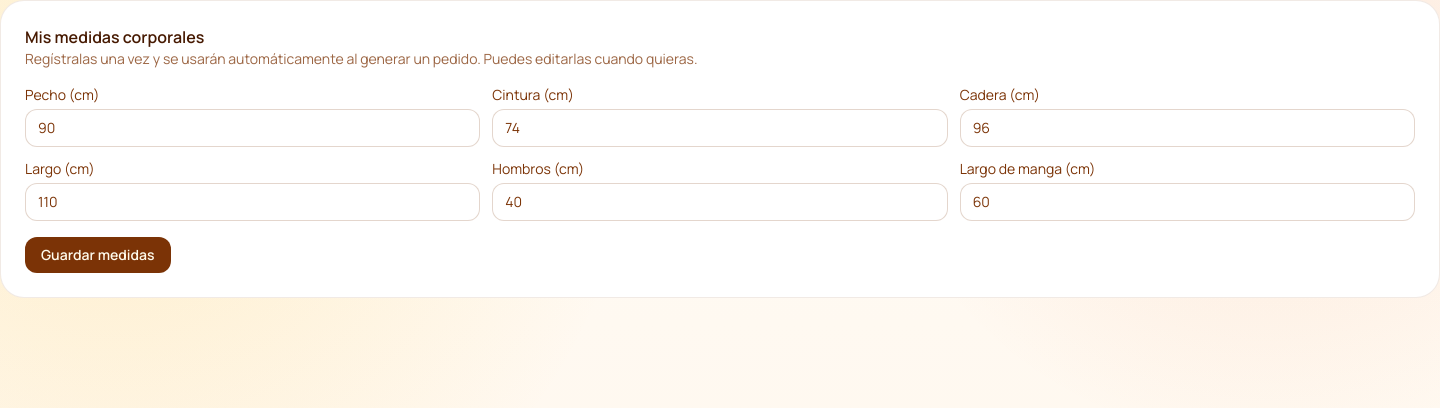
Scenario: HU-08: registro de medidas corporales › guarda cuando todas las medidas son válidas
This screenshot has width=1440, height=408.
Click the button "Guardar medidas".
click(98, 255)  # box x1=25 y1=237 x2=170 y2=273
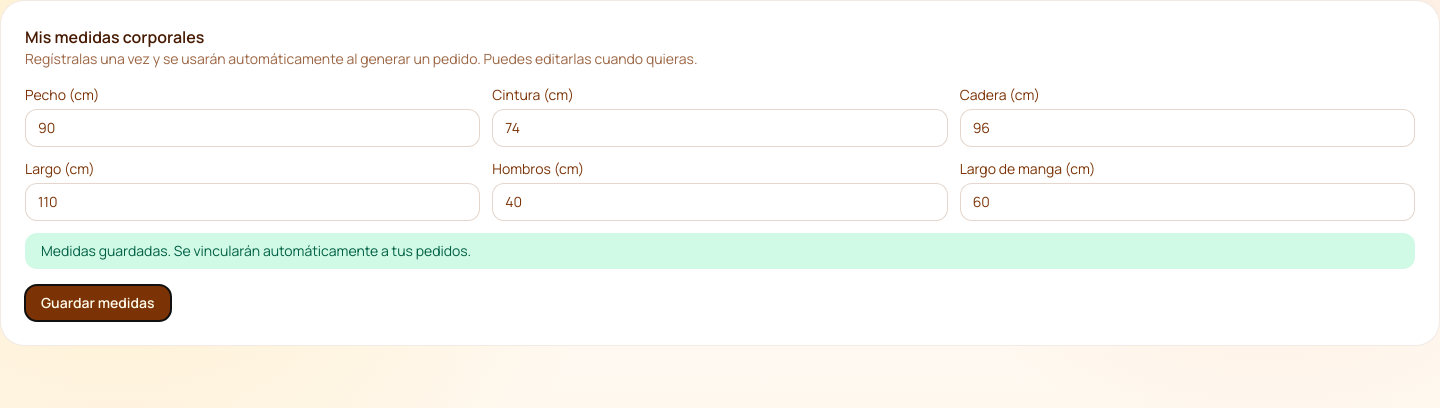
Expected: the text "Medidas guardadas" is shown, x1=41 y1=241 x2=471 y2=260
